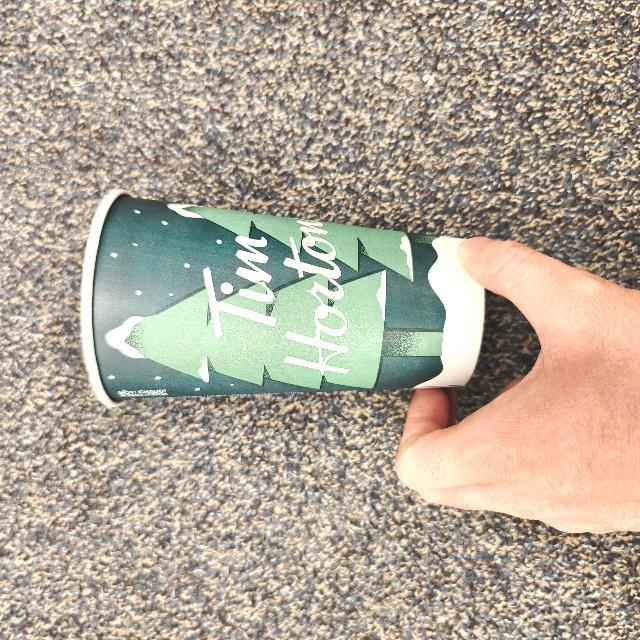timmies: (70, 179, 508, 413)
